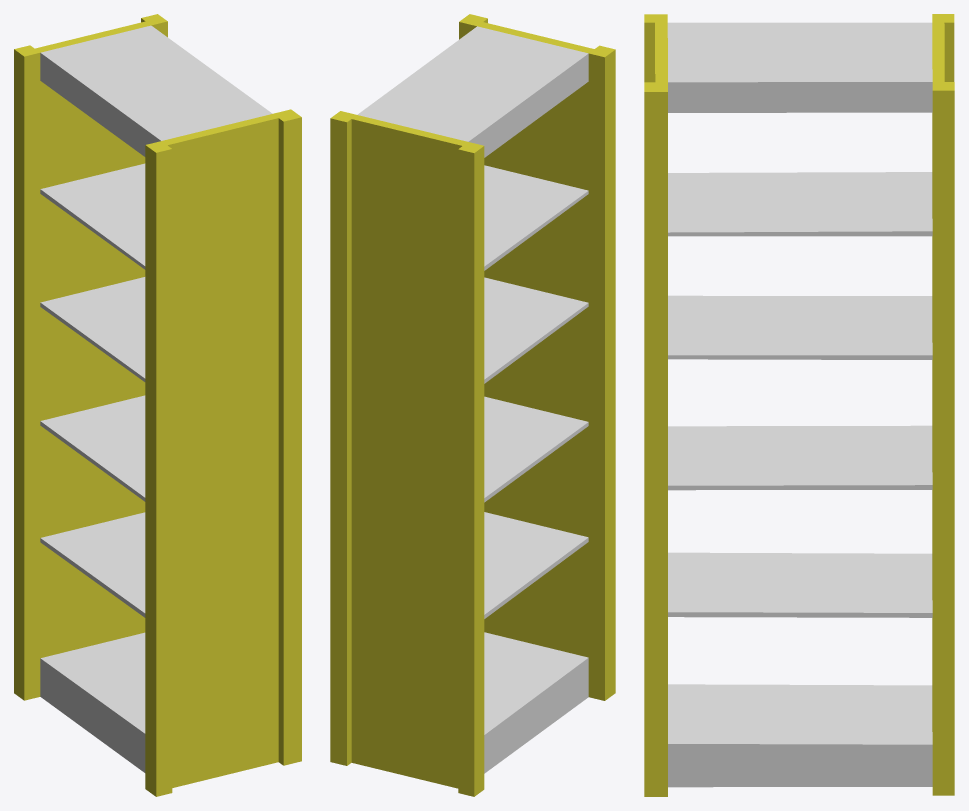
Rendered from Estantebibliotecasenac.fbx.
The picture shows the model from 3 angles, left to right: view 1: azimuth 30°, elevation 25°; view 2: azimuth 150°, elevation 25°; view 3: azimuth 270°, elevation 25°; orthographic projection. The views are drawn at different scales.
Visible parts, largest first — view 1: Estante, prateleira3, prateleira1; view 2: Estante, prateleira3, prateleira1; view 3: prateleira1, prateleira3, Estante.
Part boxes in pixels (x1,y1,x2,y2): Estante: (14,14,301,796); prateleira3: (40,25,272,772); prateleira1: (40,163,145,617); Estante: (330,14,615,796); prateleira3: (357,26,588,773); prateleira1: (484,165,588,618); prateleira1: (668,172,932,617); prateleira3: (667,22,932,787); Estante: (644,14,954,796).
Size of the model in its own units: 0.3917 by 1.65 by 0.6587.
